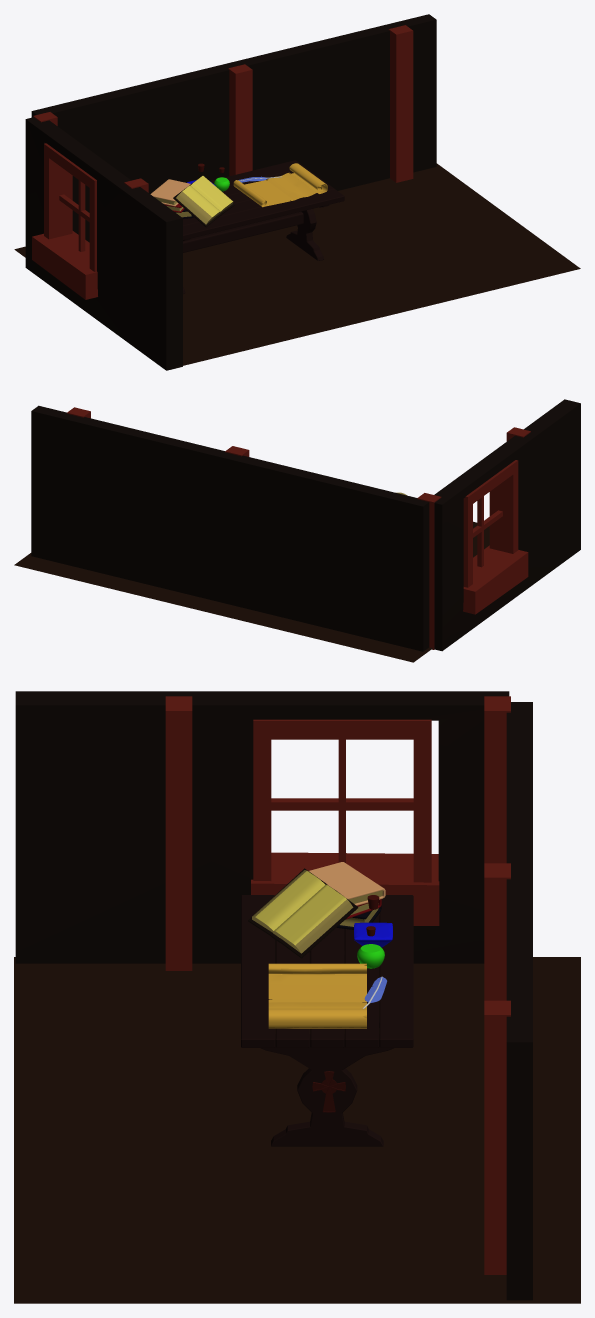
Rendered from escena_reduida.obj.
3 views of the same model, one above another, from view 1: azimuth 30°, elevation 25°; view 2: azimuth 150°, elevation 25°; view 3: azimuth 270°, elevation 25° (orthographic). The views are drawn at different scales.
Visible parts, largest first — view 1: sorcerer_desk.001, sorcerer_desk.000, sorcerer_desk.003, sorcerer_desk.007, sorcerer_desk.009, sorcerer_desk.017, sorcerer_desk.018, sorcerer_desk.020; view 2: sorcerer_desk.001, sorcerer_desk.003, sorcerer_desk.000; view 3: sorcerer_desk.000, sorcerer_desk.001, sorcerer_desk.003, sorcerer_desk.007, sorcerer_desk.009, sorcerer_desk.017, sorcerer_desk.018, sorcerer_desk.020, sorcerer_desk.014.
Part boxes in pixels (x1=…): sorcerer_desk.001: x1=25, y1=14, x2=436, y2=370; sorcerer_desk.000: x1=14, y1=163, x2=580, y2=367; sorcerer_desk.003: x1=32, y1=25, x2=413, y2=299; sorcerer_desk.007: x1=183, y1=160, x2=344, y2=293; sorcerer_desk.009: x1=233, y1=163, x2=327, y2=207; sorcerer_desk.017: x1=182, y1=176, x2=232, y2=216; sorcerer_desk.018: x1=155, y1=191, x2=233, y2=224; sorcerer_desk.020: x1=150, y1=179, x2=190, y2=206; sorcerer_desk.001: x1=31, y1=399, x2=580, y2=651; sorcerer_desk.003: x1=67, y1=407, x2=530, y2=649; sorcerer_desk.000: x1=14, y1=521, x2=489, y2=662; sorcerer_desk.000: x1=14, y1=957, x2=580, y2=1303; sorcerer_desk.001: x1=15, y1=691, x2=532, y2=1300; sorcerer_desk.003: x1=165, y1=696, x2=510, y2=1274; sorcerer_desk.007: x1=241, y1=895, x2=413, y2=1146; sorcerer_desk.009: x1=268, y1=963, x2=366, y2=1028; sorcerer_desk.017: x1=255, y1=871, x2=346, y2=945; sorcerer_desk.018: x1=252, y1=870, x2=382, y2=953; sorcerer_desk.020: x1=309, y1=862, x2=385, y2=905; sorcerer_desk.014: x1=354, y1=922, x2=392, y2=947.
Bounding box in the file's own units: 25.33 × 8.48 × 16.58.
